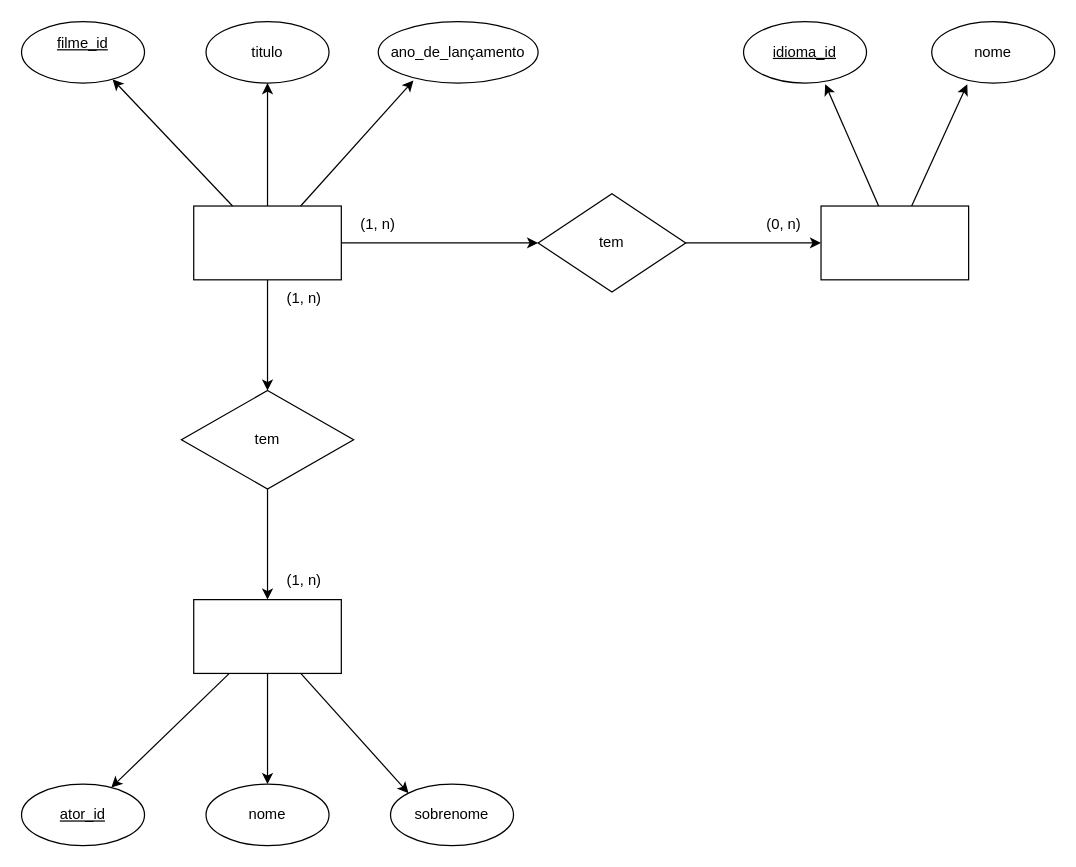
Some shapes in this 1076 by 867 pixel diagram are drawn without their labels. Each missing label, with the centre of its shape:
Ator: point (266, 635)
Filme: point (266, 242)
Idioma: point (894, 242)
